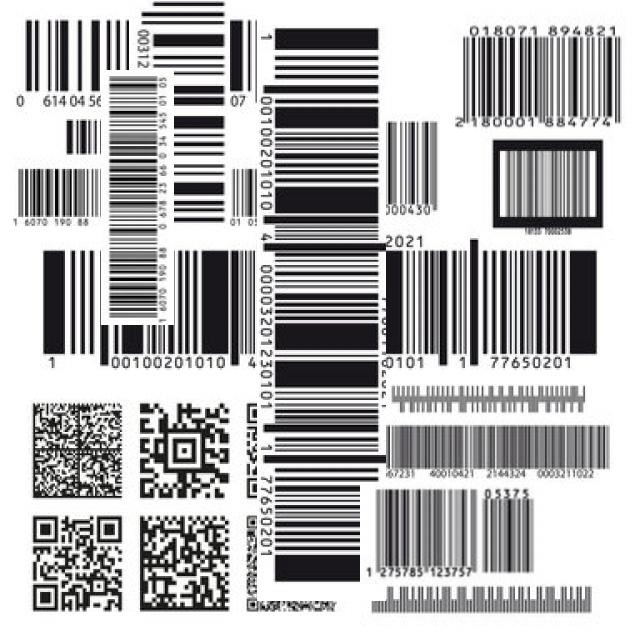Barkod: (142, 128, 501, 486), (66, 0, 292, 177), (56, 116, 220, 280), (449, 13, 629, 138), (360, 484, 543, 583), (308, 104, 447, 220)
